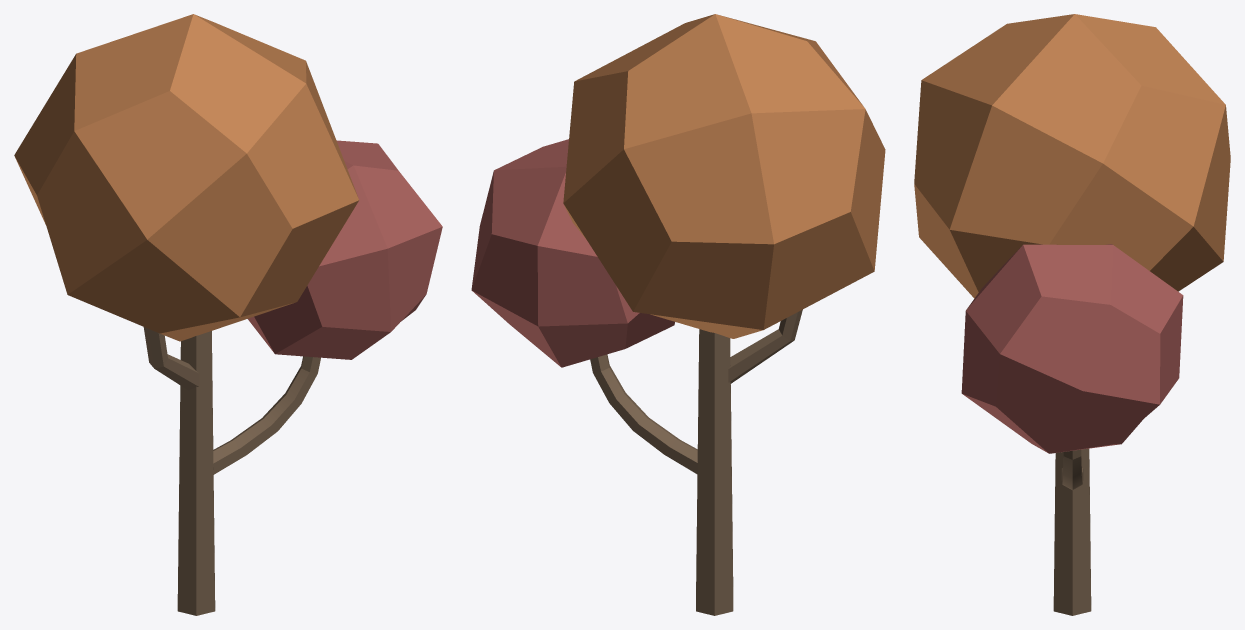
Rendered from Tree_03.fbx.
The picture shows the model from 3 angles, left to right: view 1: azimuth 30°, elevation 25°; view 2: azimuth 150°, elevation 25°; view 3: azimuth 270°, elevation 25°; orthographic projection.
Parts seen in each view (by area): view 1: Tree_03; view 2: Tree_03; view 3: Tree_03.
Boxes of the visible parts, left/top/right/bottom form: Tree_03: left=14, top=14, right=442, bottom=615; Tree_03: left=471, top=14, right=885, bottom=615; Tree_03: left=914, top=14, right=1230, bottom=615.
Bounding box in the file's own units: 112 × 169 × 81.7.
